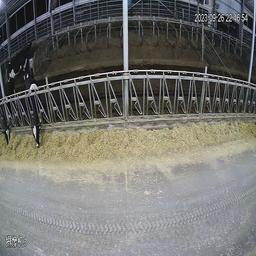cow: (25, 77, 45, 150), (4, 36, 33, 80), (2, 76, 17, 145)
